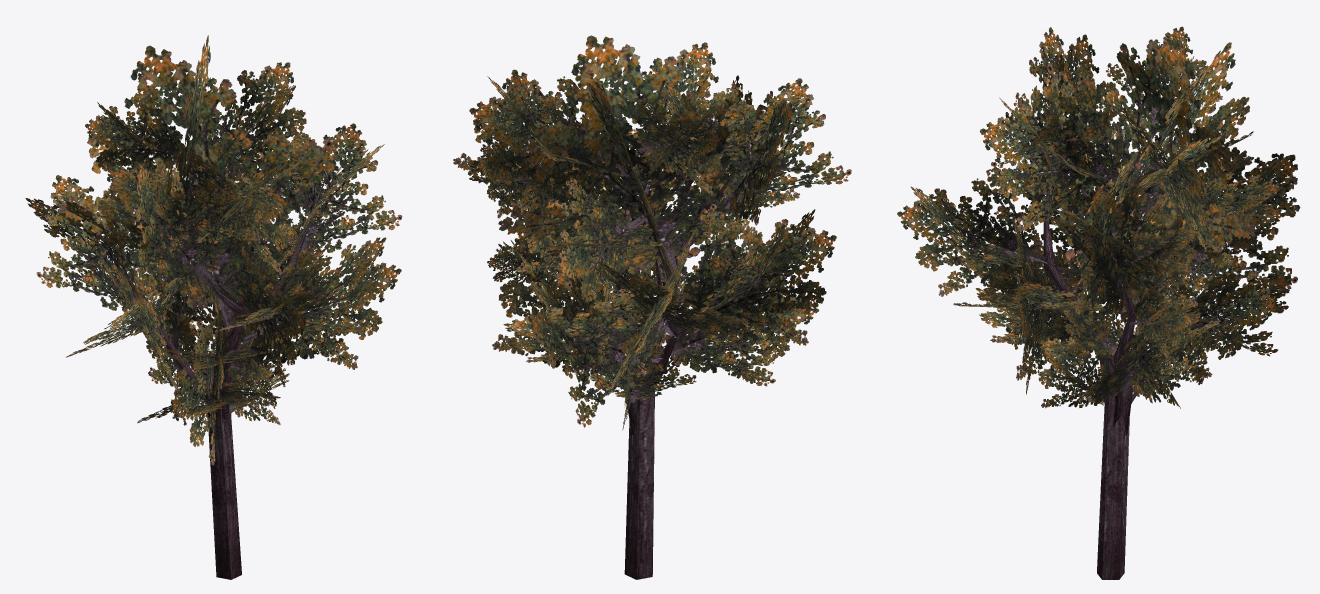
File: tree_B.FBX
The picture shows the model from 3 angles, left to right: view 1: azimuth 30°, elevation 25°; view 2: azimuth 150°, elevation 25°; view 3: azimuth 270°, elevation 25°; orthographic projection. The views are drawn at different scales.
Visible parts, largest first — view 1: OPAQUE02; view 2: OPAQUE02; view 3: OPAQUE02.
Part boxes in pixels (left/top/right/bottom): OPAQUE02: left=25, top=35, right=402, bottom=579; OPAQUE02: left=453, top=35, right=851, bottom=579; OPAQUE02: left=897, top=26, right=1300, bottom=579.
Size of the model in its own units: 22.35 by 34.85 by 23.48.
